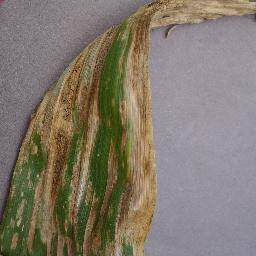Gray_Leaf_Spot: (1, 94, 161, 256), (44, 34, 106, 95), (118, 21, 162, 93), (127, 0, 256, 21), (105, 17, 119, 49)
